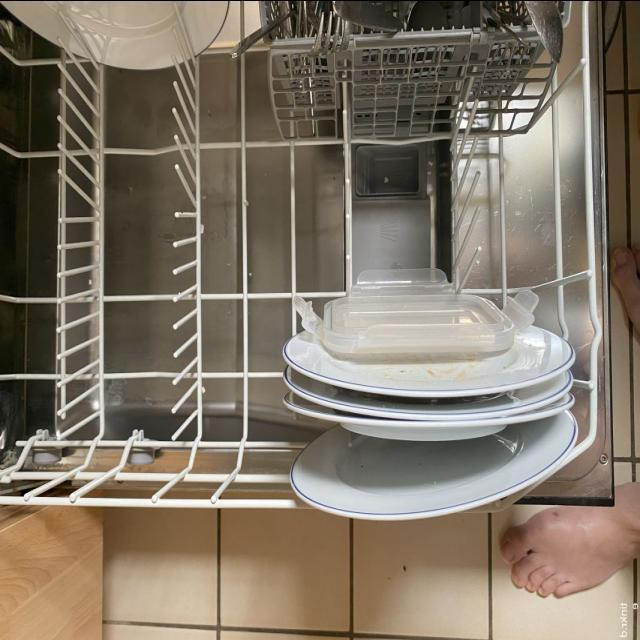empty_slot: (8, 71, 257, 486), (279, 144, 575, 282)
